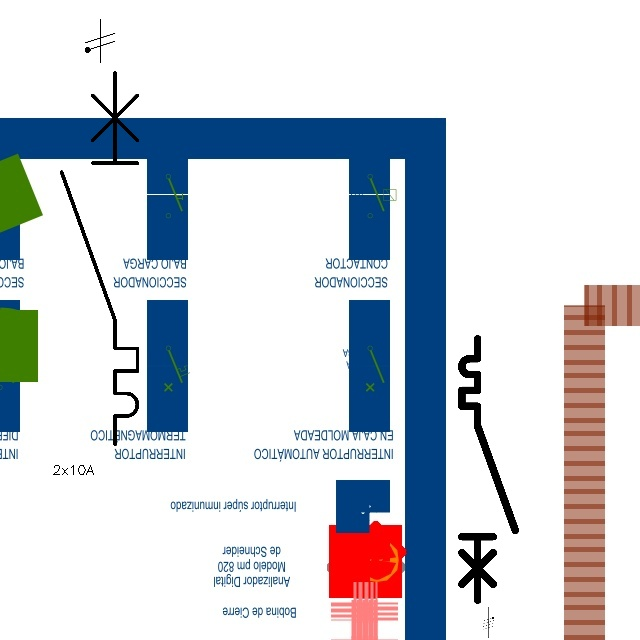interruptor_termomagnetico: (52, 63, 147, 453), (455, 332, 522, 607)
